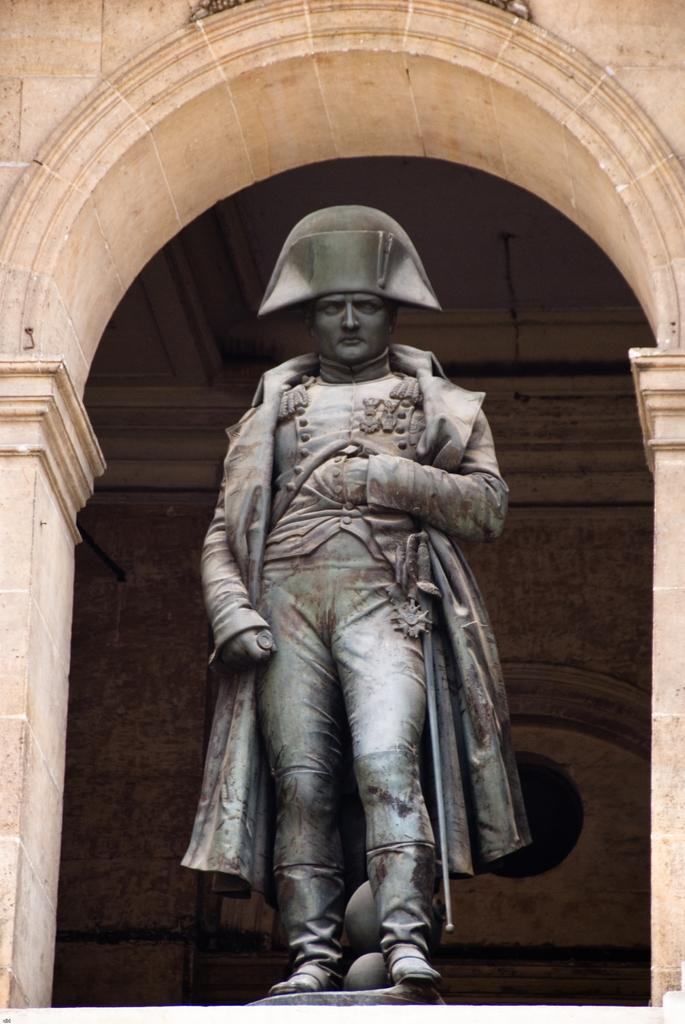Hat: (256, 205, 444, 316)
